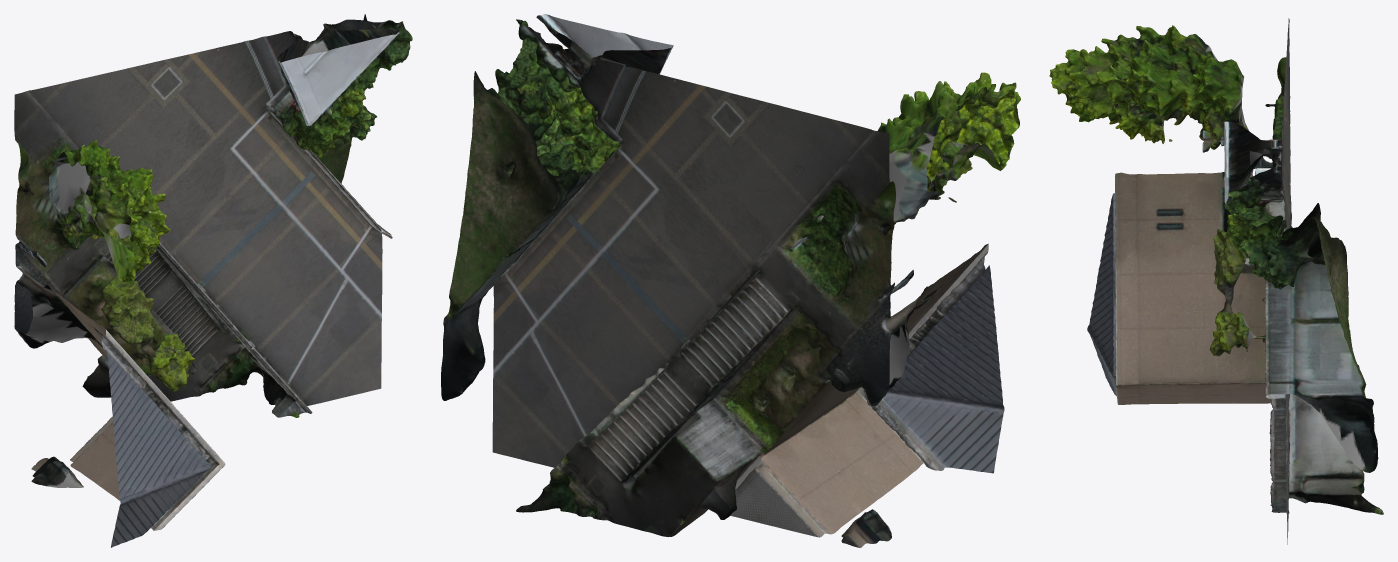
Rendered from Tile_+012_+014.fbx.
3 renders of one model, left to right at view 1: azimuth 30°, elevation 25°; view 2: azimuth 150°, elevation 25°; view 3: azimuth 270°, elevation 25°, orthographic. The views are drawn at different scales.
Visible parts, largest first — view 1: DefaultName; view 2: DefaultName; view 3: DefaultName.
Part boxes in pixels (left/top/right/bottom): DefaultName: left=14, top=14, right=412, bottom=547; DefaultName: left=441, top=14, right=1020, bottom=547; DefaultName: left=1049, top=18, right=1383, bottom=544.
Size of the model in its own units: 22.54 by 22.54 by 18.75.
